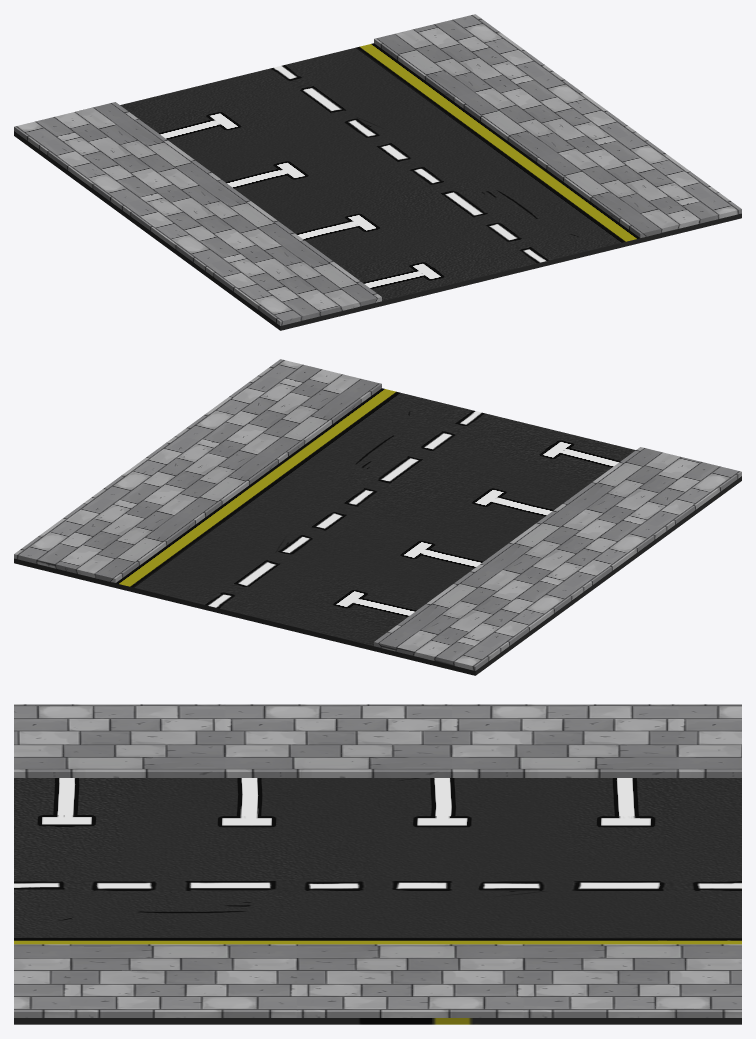
File: one-way-road.fbx
3 views of the same model, one above another, from view 1: azimuth 30°, elevation 25°; view 2: azimuth 150°, elevation 25°; view 3: azimuth 270°, elevation 25° (orthographic). The views are drawn at different scales.
Visible parts, largest first — view 1: Box018; view 2: Box018; view 3: Box018.
Part boxes in pixels (box(x1,y1,x2,y2)): Box018: box(14, 14, 741, 330); Box018: box(14, 359, 741, 675); Box018: box(14, 704, 741, 1024).
Size of the model in its own units: 1524 by 28.88 by 1524.
